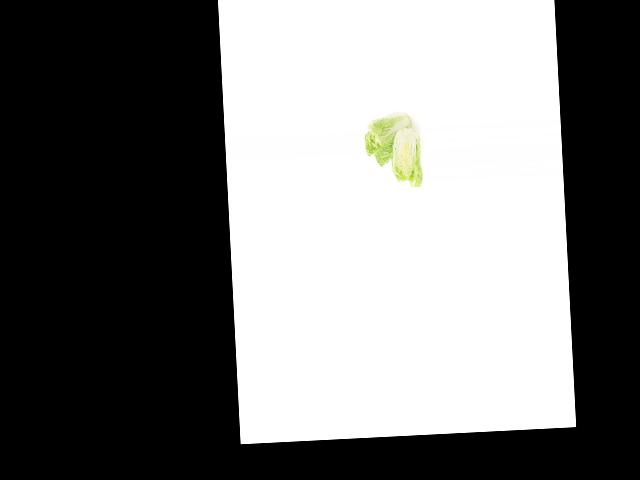lettuce: (360, 110, 416, 171)
